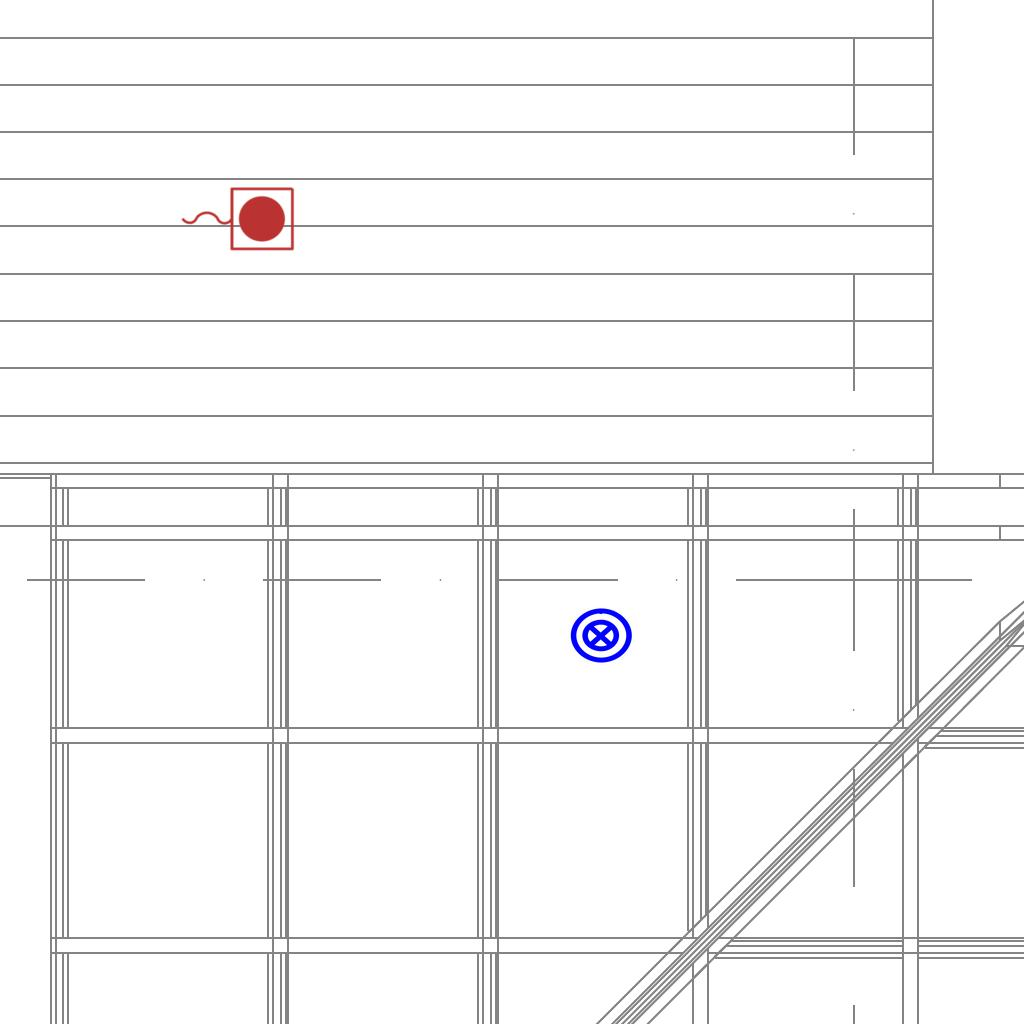Taster_beleuchtet: (568, 603, 634, 669)
Zugtaster: (176, 182, 298, 254)
